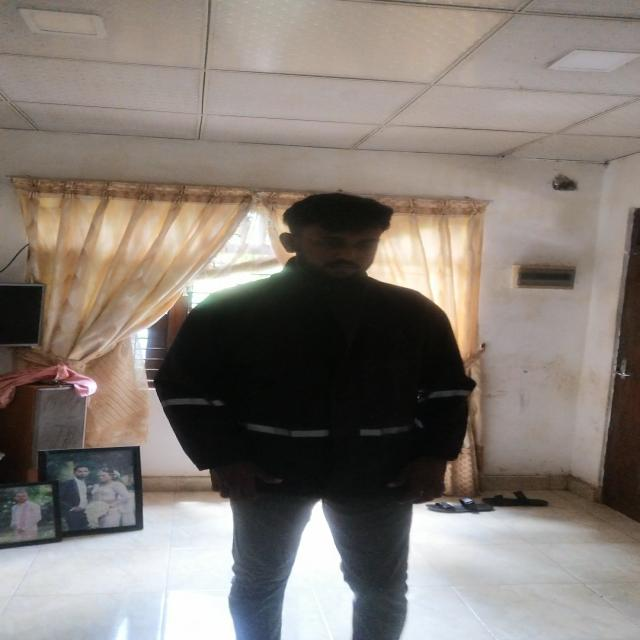Jacket_Wearer: (163, 276, 473, 508)
Person: (152, 190, 492, 640)
